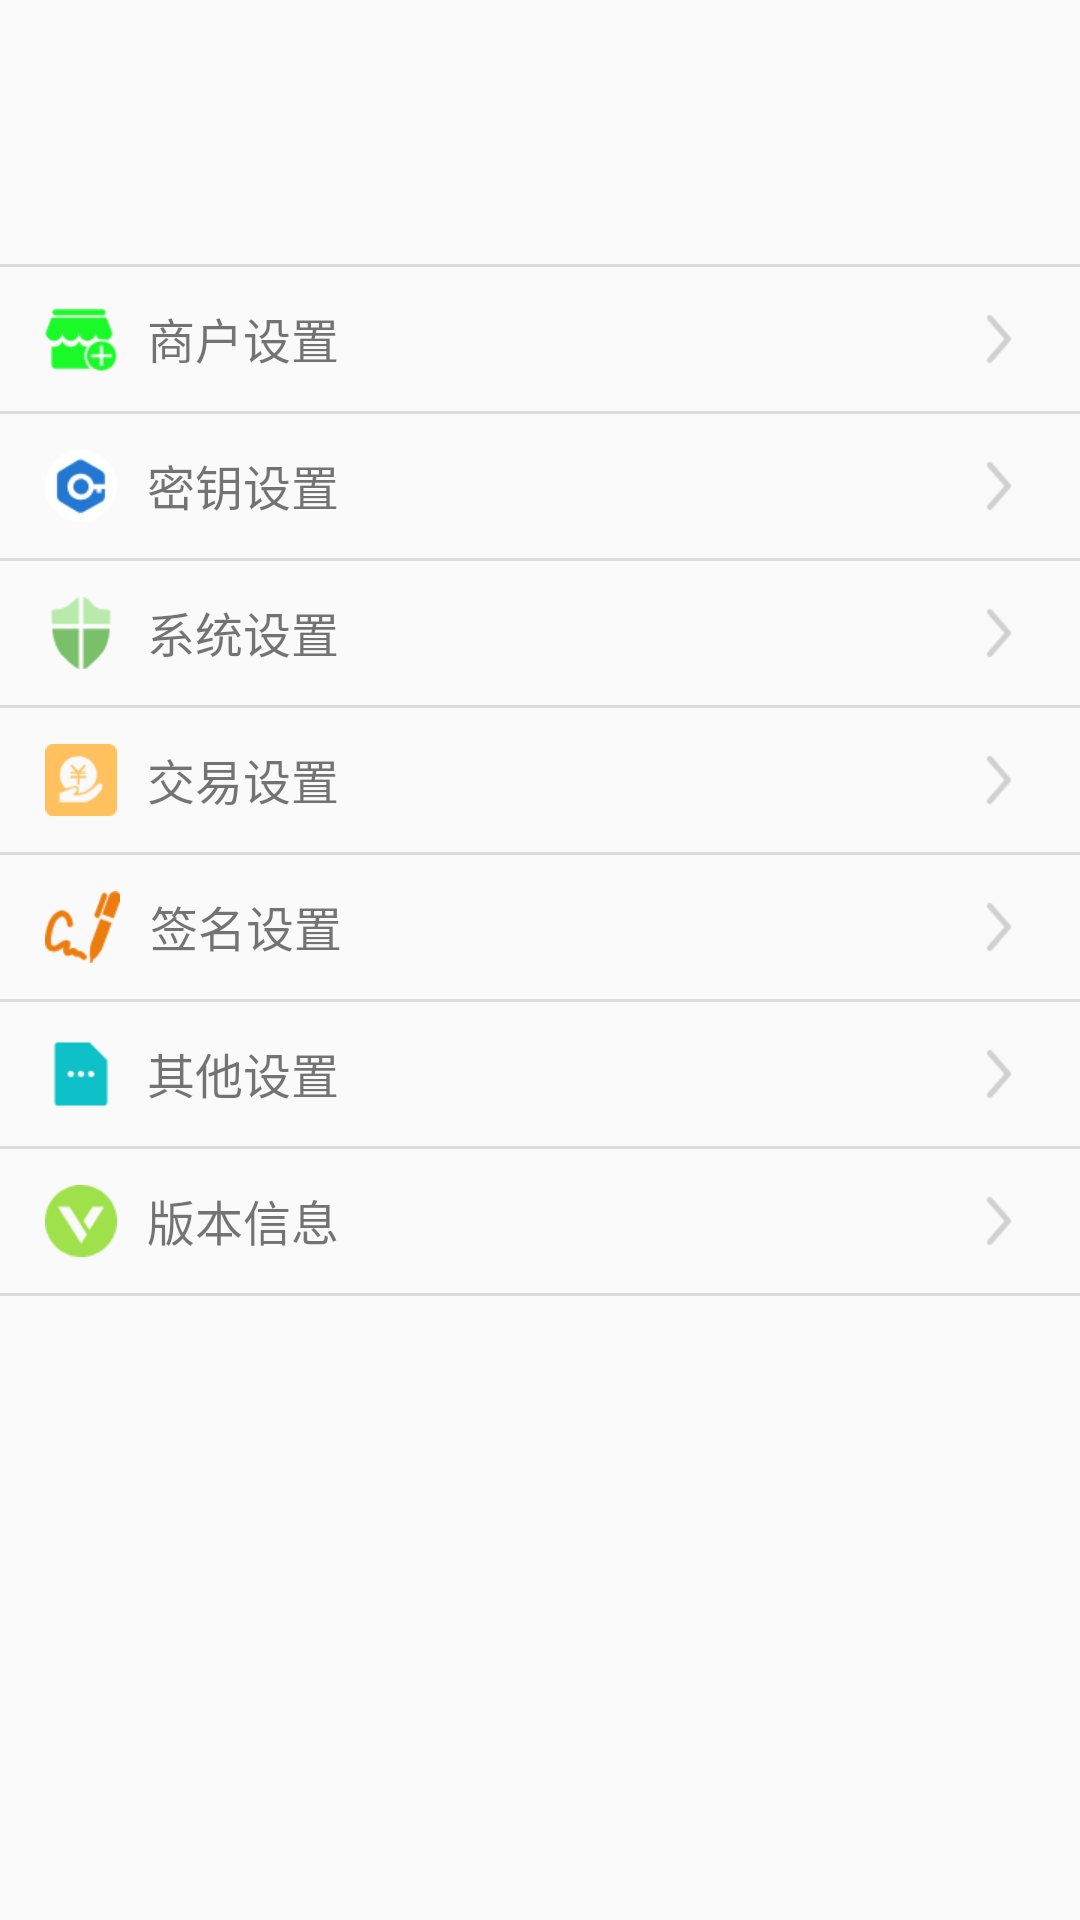

Where to tap for icons on this 1080px x 1920px app screen, as [x,y]:
key setting: [81,486]
list drop: [999,339], [999,486], [999,633], [999,780], [999,927], [999,1074], [999,1221]
merchants settled: [81,339]
other: [81,1074]
signature: [82,927]
trans: [81,780]
verison info: [81,1221]
